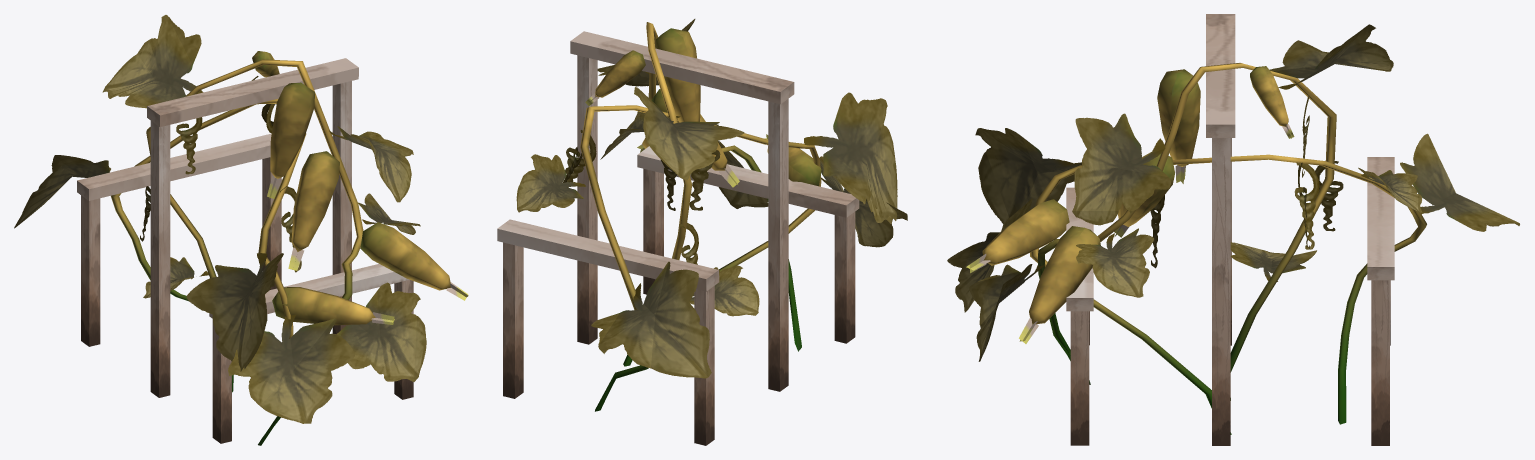
The model's file is cucumber_broke.FBX.
The picture shows the model from 3 angles, left to right: view 1: azimuth 30°, elevation 25°; view 2: azimuth 150°, elevation 25°; view 3: azimuth 270°, elevation 25°; orthographic projection. The views are drawn at different scales.
Parts seen in each view (by area): view 1: cucumber_broke; view 2: cucumber_broke; view 3: cucumber_broke.
Part boxes in pixels (x1,y1,x2,y2): cucumber_broke: [14, 15, 468, 445]; cucumber_broke: [497, 19, 907, 445]; cucumber_broke: [947, 14, 1519, 445].
Size of the model in its own units: 3.37 by 3.85 by 5.38.
Materials: 1 (1 with a texture image).
